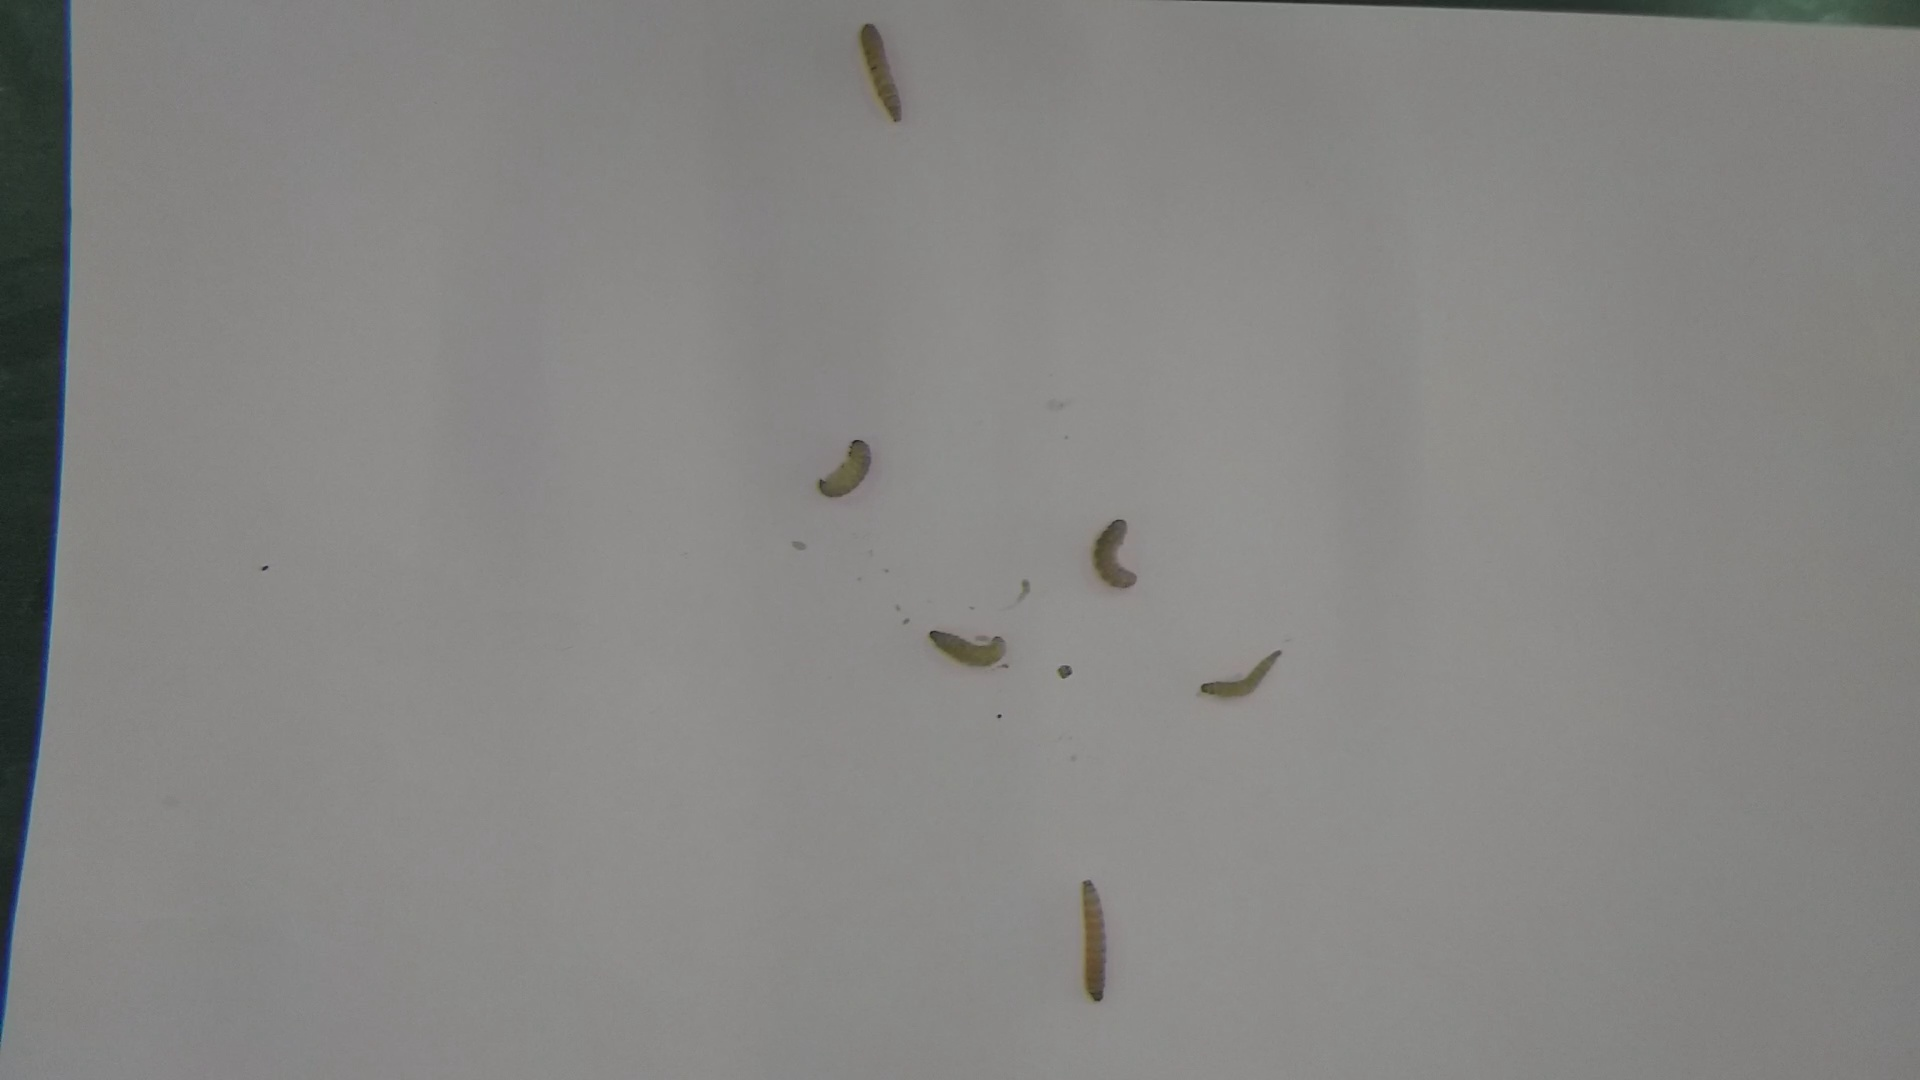efsb: (849, 16, 913, 135), (808, 433, 882, 510), (1196, 645, 1287, 704), (1077, 869, 1112, 1009), (1087, 516, 1143, 597), (922, 626, 1007, 669)
